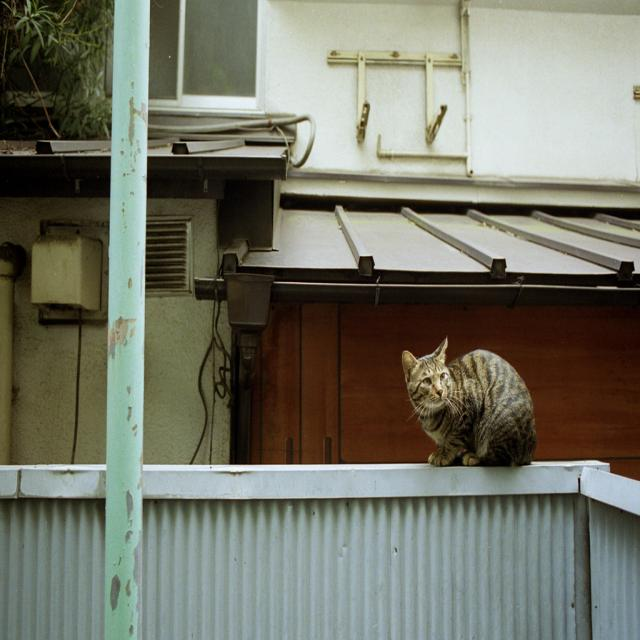Cat: (400, 338, 538, 465)
